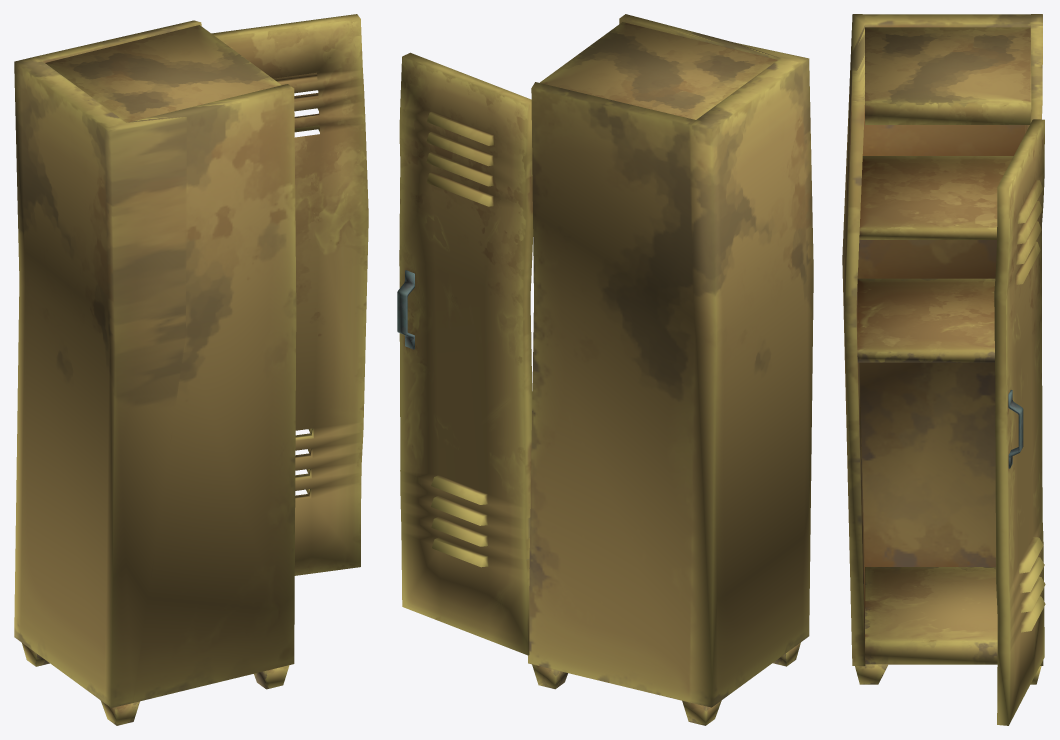
The model's file is locker_1.fbx.
3 renders of one model, left to right at view 1: azimuth 30°, elevation 25°; view 2: azimuth 150°, elevation 25°; view 3: azimuth 270°, elevation 25°, orthographic. The views are drawn at different scales.
Parts seen in each view (by area): view 1: l8_low, l1_low, l7_low, l9_low; view 2: l8_low, l1_low, l7_low, l9_low, l2_low; view 3: l8_low, l1_low, l7_low, l6_low, l4_low, l5_low, l9_low, l2_low.
Boxes of the visible parts, x1,y1,x2,y2 form: l8_low: [14, 20, 296, 707]; l1_low: [211, 14, 368, 575]; l7_low: [45, 25, 281, 122]; l9_low: [22, 643, 289, 725]; l8_low: [528, 14, 813, 707]; l1_low: [399, 52, 533, 655]; l7_low: [539, 22, 777, 119]; l9_low: [532, 642, 800, 725]; l2_low: [397, 270, 414, 349]; l8_low: [842, 14, 1043, 665]; l1_low: [994, 119, 1045, 725]; l7_low: [865, 27, 1031, 124]; l6_low: [865, 567, 997, 664]; l4_low: [859, 156, 1013, 239]; l5_low: [857, 278, 995, 362]; l9_low: [855, 664, 1041, 684]; l2_low: [1008, 390, 1023, 468].
Size of the model in its own units: 408 by 707 by 222.
